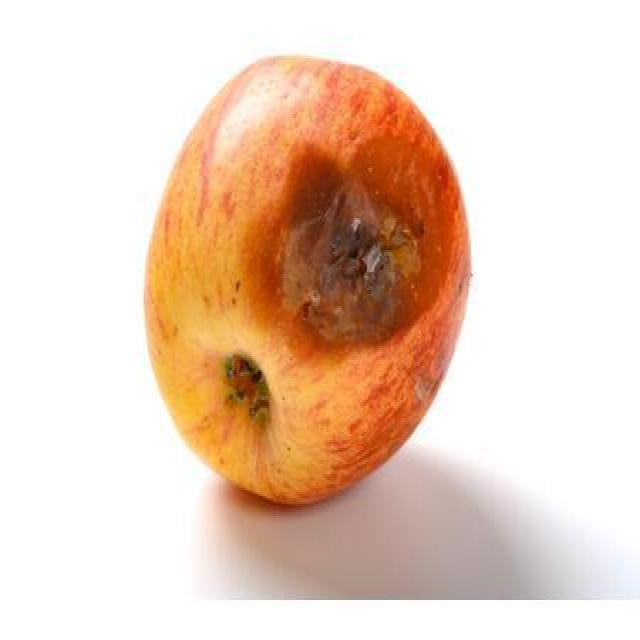Rotten: (126, 53, 483, 489)
